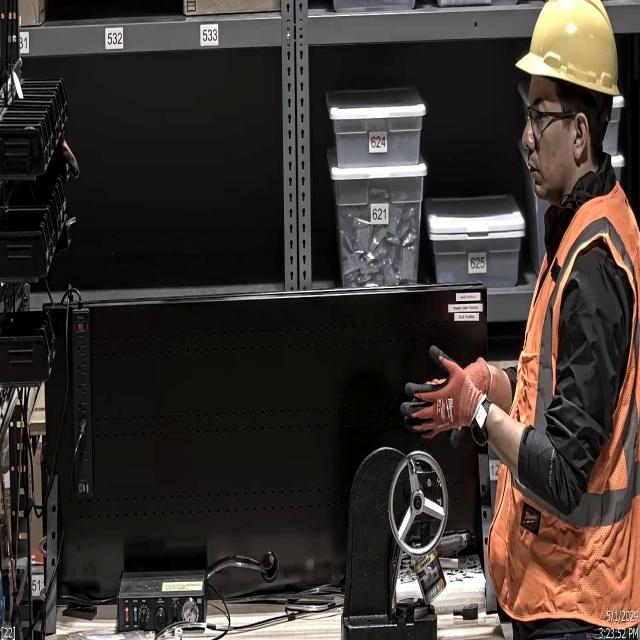gloves: (399, 339, 505, 434)
